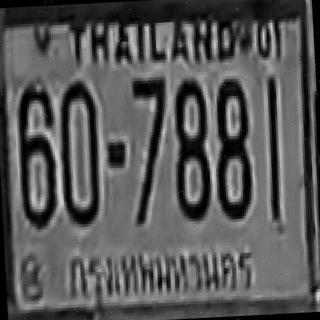N00: (56, 79, 102, 224)
N06: (15, 82, 58, 226)
N07: (127, 74, 171, 224), (130, 74, 171, 210), (130, 74, 168, 162)
N08: (168, 78, 210, 219), (211, 76, 253, 217)
P04: (62, 240, 262, 310)
